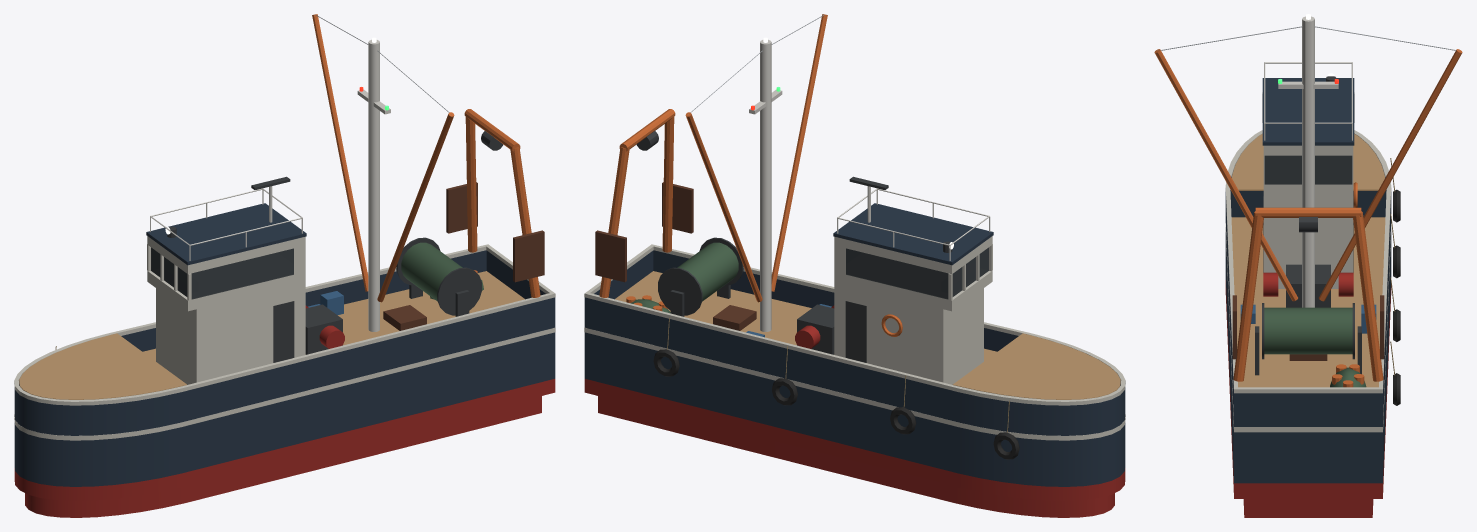
The model's file is veh_trawler_dockside.glb.
3 views of the same model, side by side, from view 1: azimuth 30°, elevation 25°; view 2: azimuth 150°, elevation 25°; view 3: azimuth 270°, elevation 25° (orthographic). The views are drawn at different scales.
Parts seen in each view (by area): view 1: Trawler; view 2: Trawler; view 3: Trawler.
Part boxes in pixels (x1,y1,x2,y2): Trawler: (14, 14, 555, 517); Trawler: (584, 14, 1125, 517); Trawler: (1154, 14, 1462, 517).
Size of the model in its own units: 16.99 by 12.51 by 8.16.
